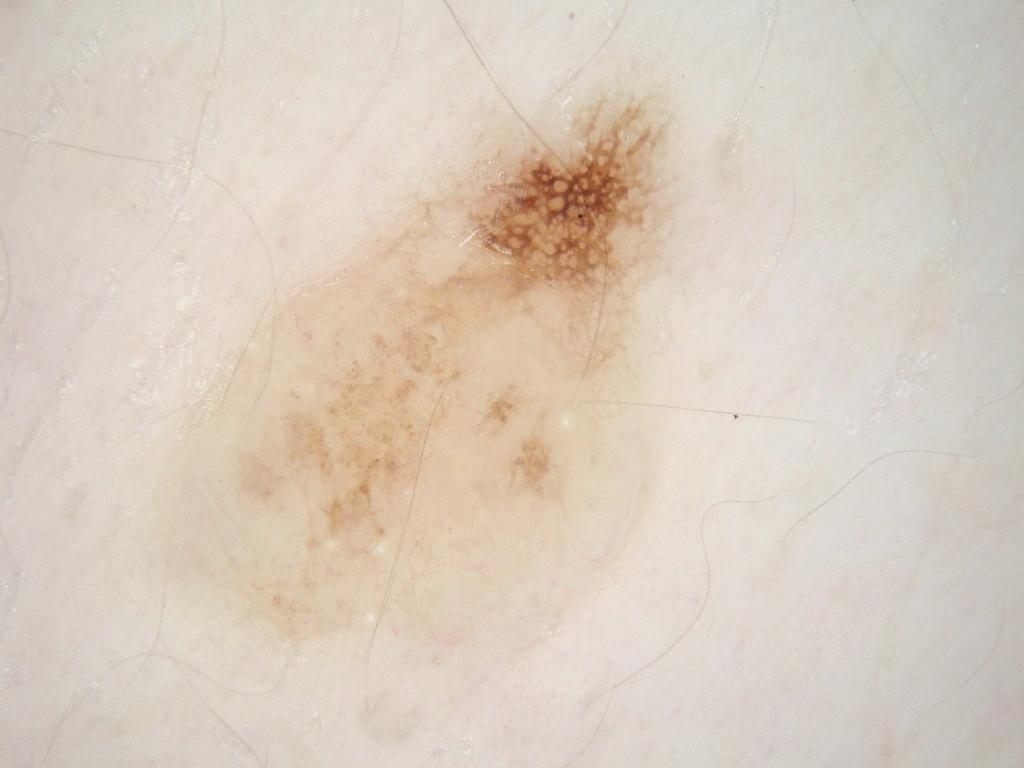Detected Lesion: (455, 93, 685, 307)
